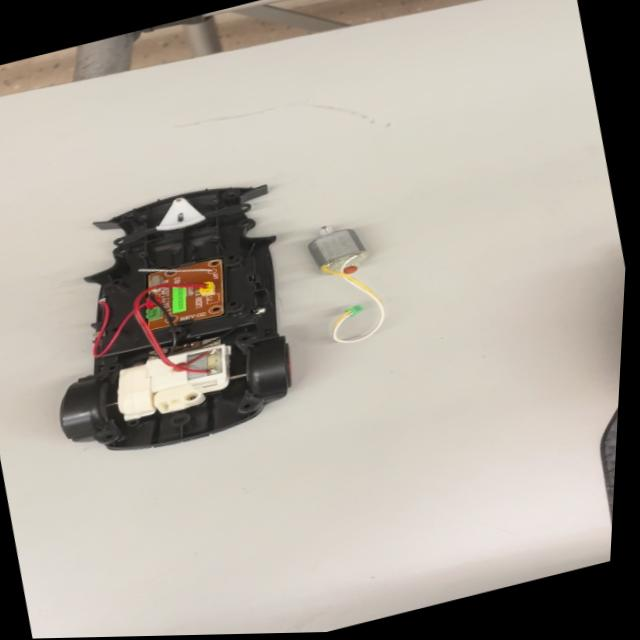Chassis: (1, 163, 329, 476)
motor: (297, 210, 406, 353)
